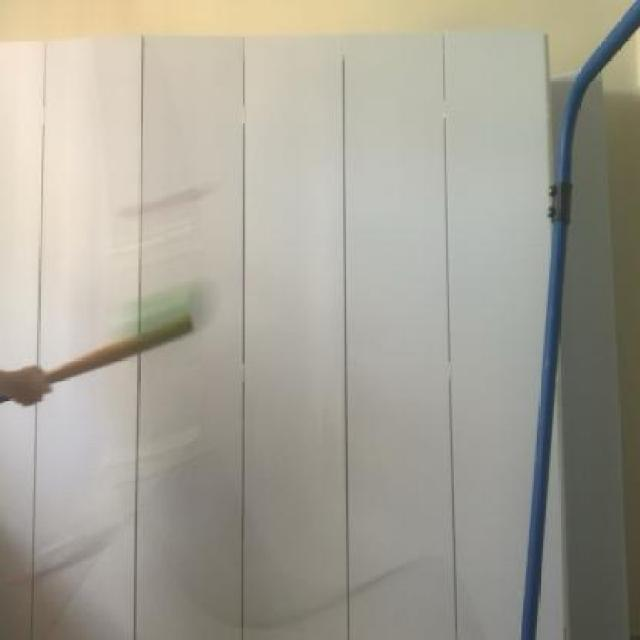baseball: (101, 268, 227, 346)
